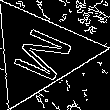M_SE: (3, 21, 76, 85)
